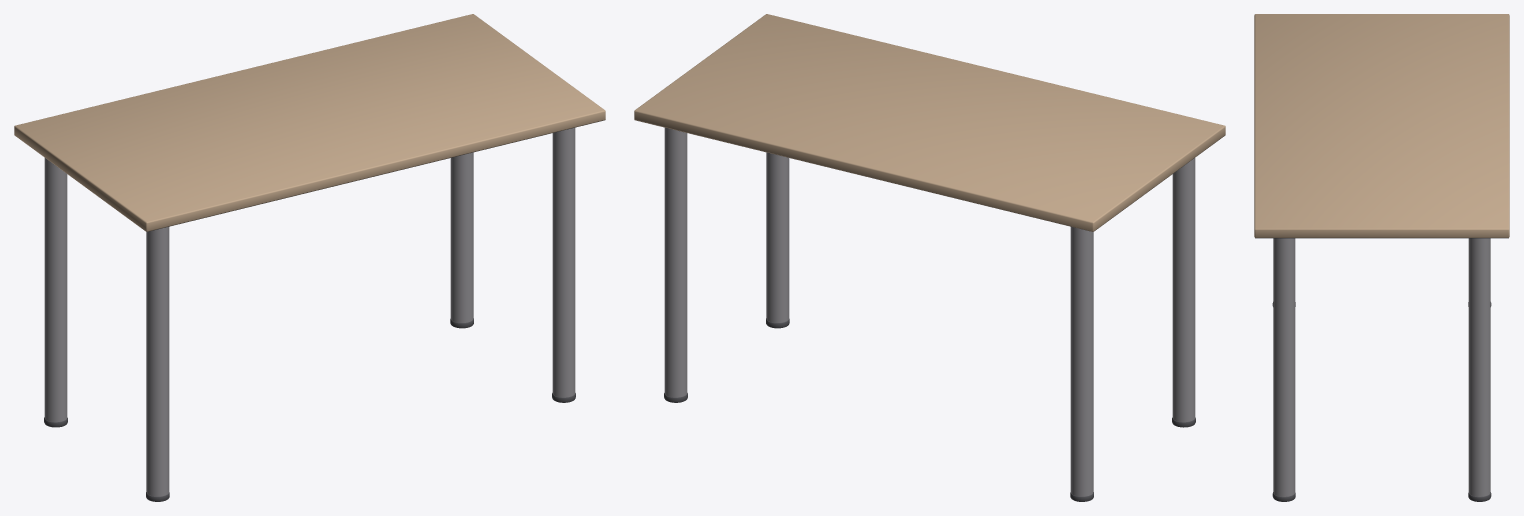
Rendered from desk-four-leg.glb.
3 renders of one model, left to right at view 1: azimuth 30°, elevation 25°; view 2: azimuth 150°, elevation 25°; view 3: azimuth 270°, elevation 25°, orthographic. The views are drawn at different scales.
Parts seen in each view (by area): view 1: desk-four-leg; view 2: desk-four-leg; view 3: desk-four-leg.
Boxes of the visible parts, x1,y1,x2,y2 form: desk-four-leg: [14, 14, 605, 501]; desk-four-leg: [634, 14, 1225, 501]; desk-four-leg: [1254, 14, 1509, 501].
Size of the model in its own units: 1.2 by 0.73 by 0.6.
